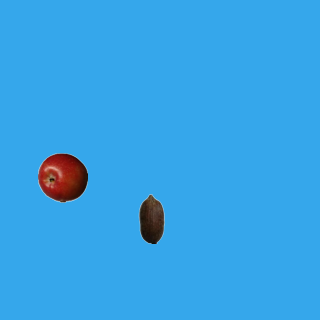Apple Braeburn: (37, 152, 87, 202)
Nut Pecan: (126, 193, 176, 243)
